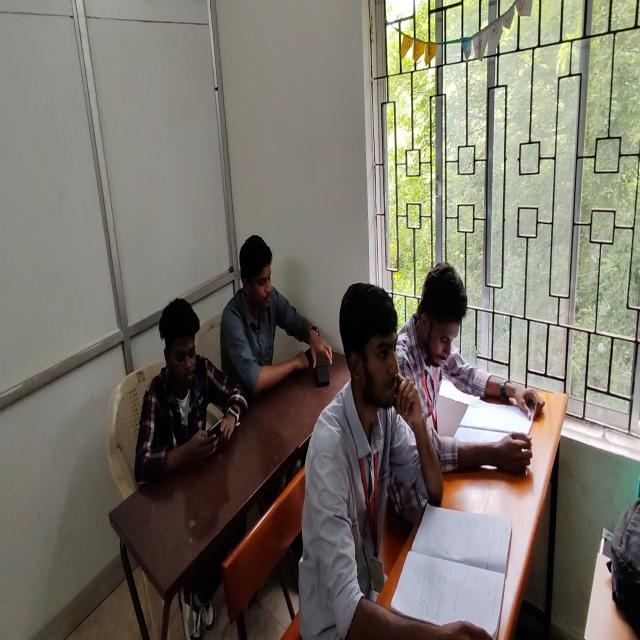listening: (312, 282, 490, 640)
reading: (399, 258, 545, 512)
using_mobile: (134, 296, 250, 487), (221, 235, 325, 408)
